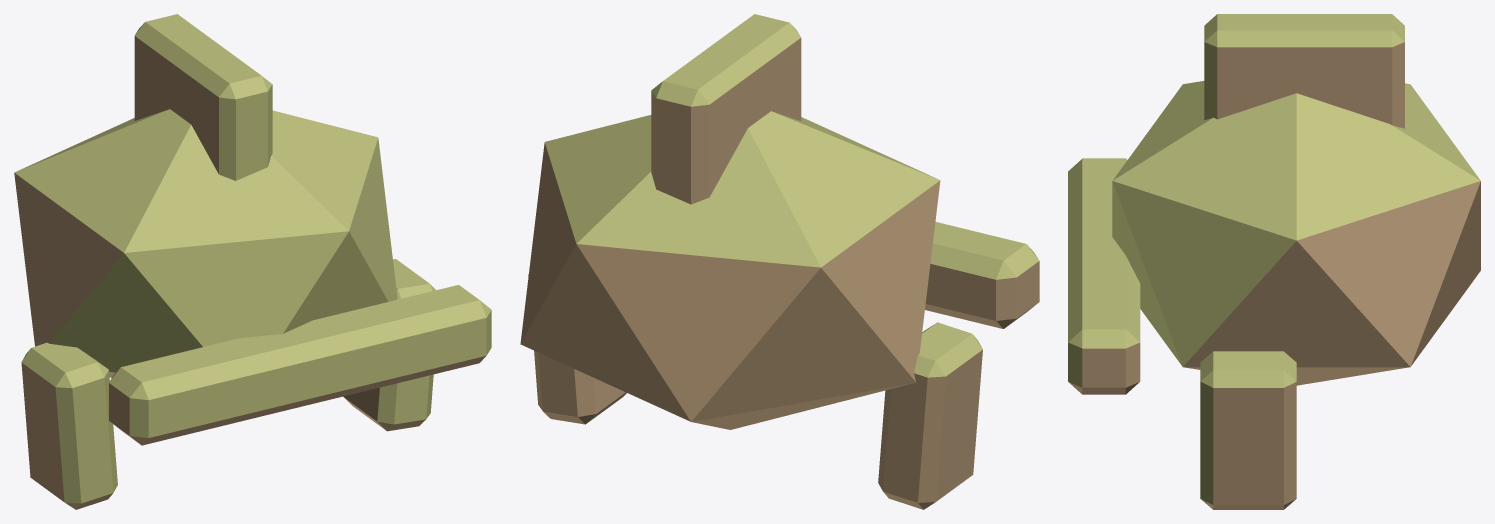
The model's file is npc_module_helmet_v01.glb.
The picture shows the model from 3 angles, left to right: view 1: azimuth 30°, elevation 25°; view 2: azimuth 150°, elevation 25°; view 3: azimuth 270°, elevation 25°; orthographic projection. The views are drawn at different scales.
Parts seen in each view (by area): view 1: GEO_npc_module_helmet_v01; view 2: GEO_npc_module_helmet_v01; view 3: GEO_npc_module_helmet_v01.
Part boxes in pixels (x1,y1,x2,y2): GEO_npc_module_helmet_v01: (14,14,491,509); GEO_npc_module_helmet_v01: (520,14,1039,509); GEO_npc_module_helmet_v01: (1068,14,1480,509).
Size of the model in its own units: 1.15 by 1.1 by 1.03.
